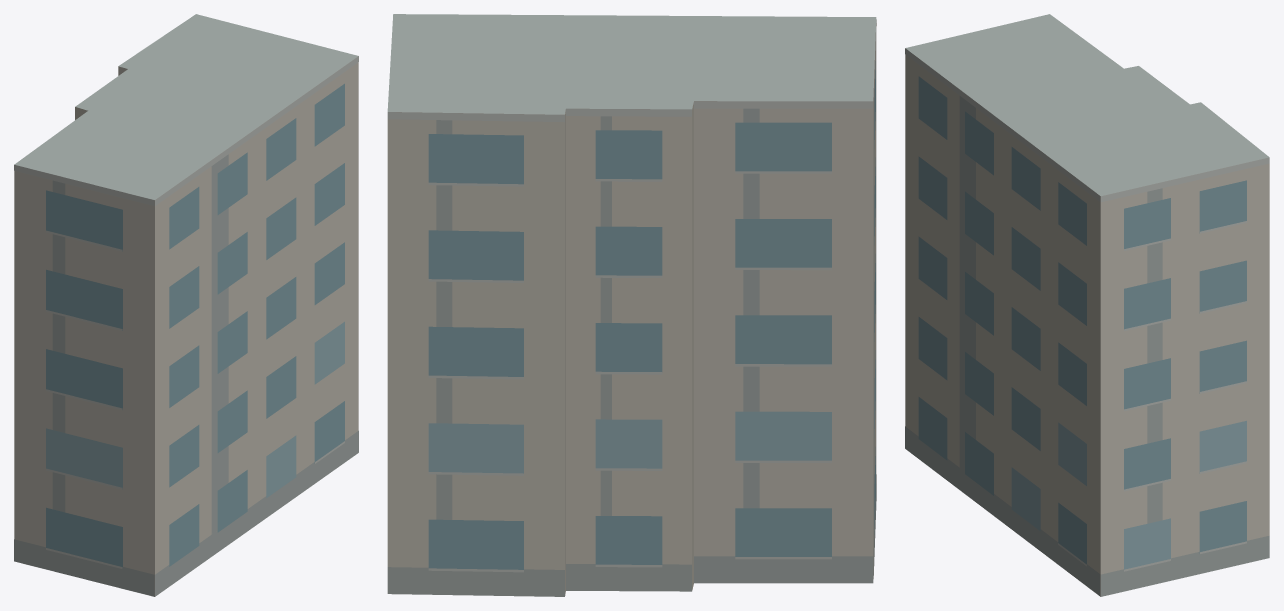
The model's file is survey-upis-32648888.glb.
3 views of the same model, side by side, from view 1: azimuth 30°, elevation 25°; view 2: azimuth 150°, elevation 25°; view 3: azimuth 270°, elevation 25° (orthographic). The views are drawn at different scales.
Parts seen in each view (by area): view 1: survey-upis-32648888.tmp; view 2: survey-upis-32648888.tmp; view 3: survey-upis-32648888.tmp.
Boxes of the visible parts, left/top/right/bottom form: survey-upis-32648888.tmp: left=14, top=14, right=358, bottom=596; survey-upis-32648888.tmp: left=387, top=14, right=876, bottom=596; survey-upis-32648888.tmp: left=905, top=14, right=1269, bottom=596.
Size of the model in its own units: 15.53 by 15.9 by 13.12.
